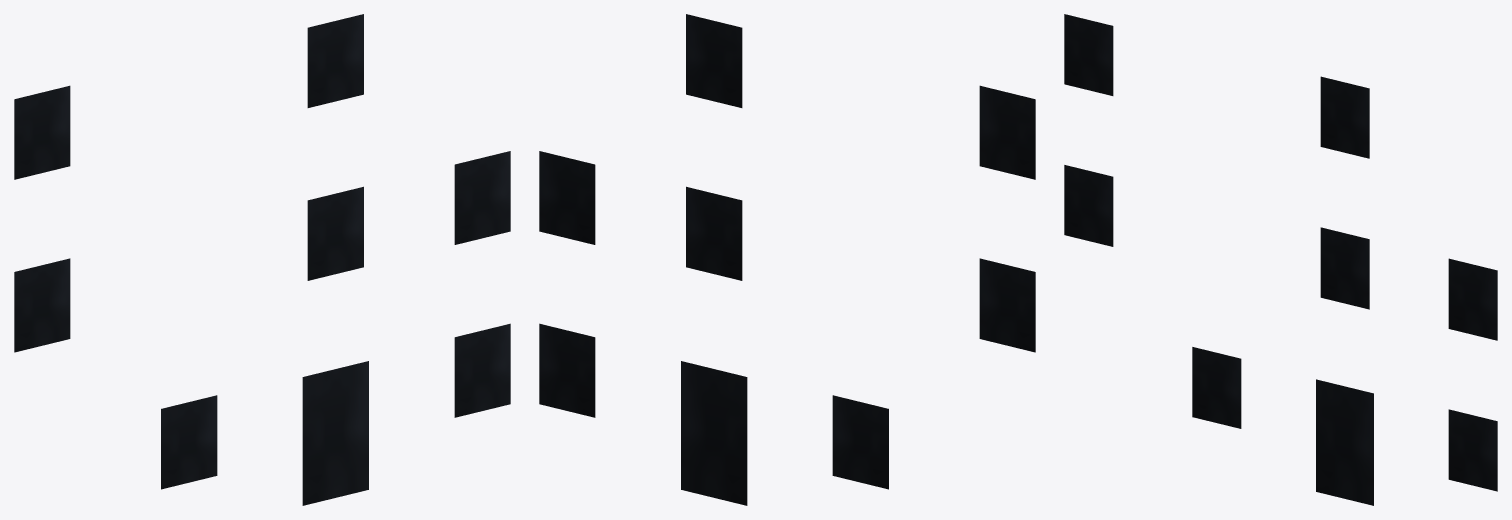
The model's file is Street_BlockL5_Glass.obj.
The picture shows the model from 3 angles, left to right: view 1: azimuth 30°, elevation 25°; view 2: azimuth 150°, elevation 25°; view 3: azimuth 330°, elevation 25°; orthographic projection. The views are drawn at different scales.
Size of the model in its own units: 9.47 by 8.7 by 0.
Materials: 1 (1 with a texture image).
